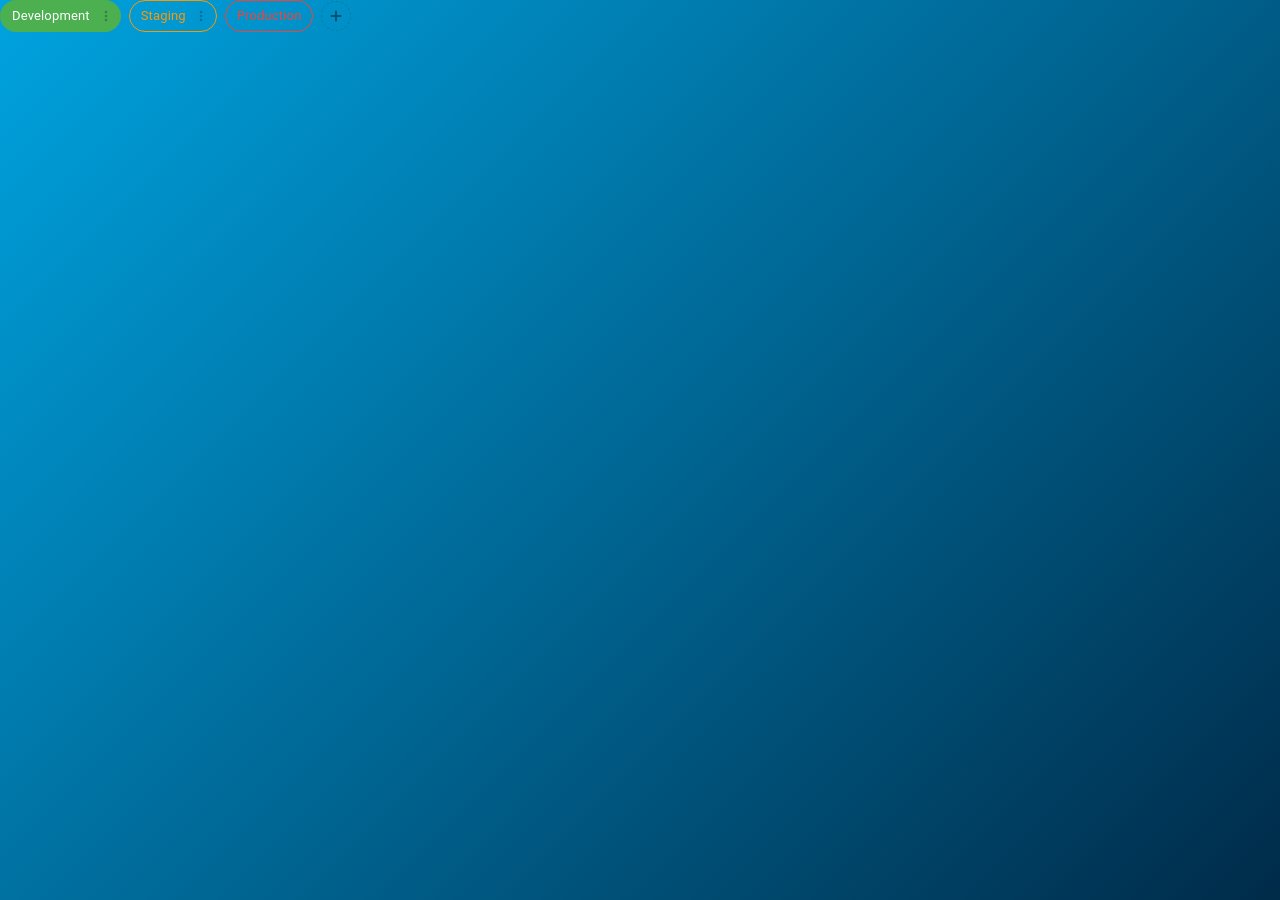
EnvironmentSwitcher › Add Environment › opens add dialog when add button is clicked
What coordinates should you click on to do the following:
click the button named "add environment"
I would click on:
 (336, 16)
Its box is [322,1,352,31].
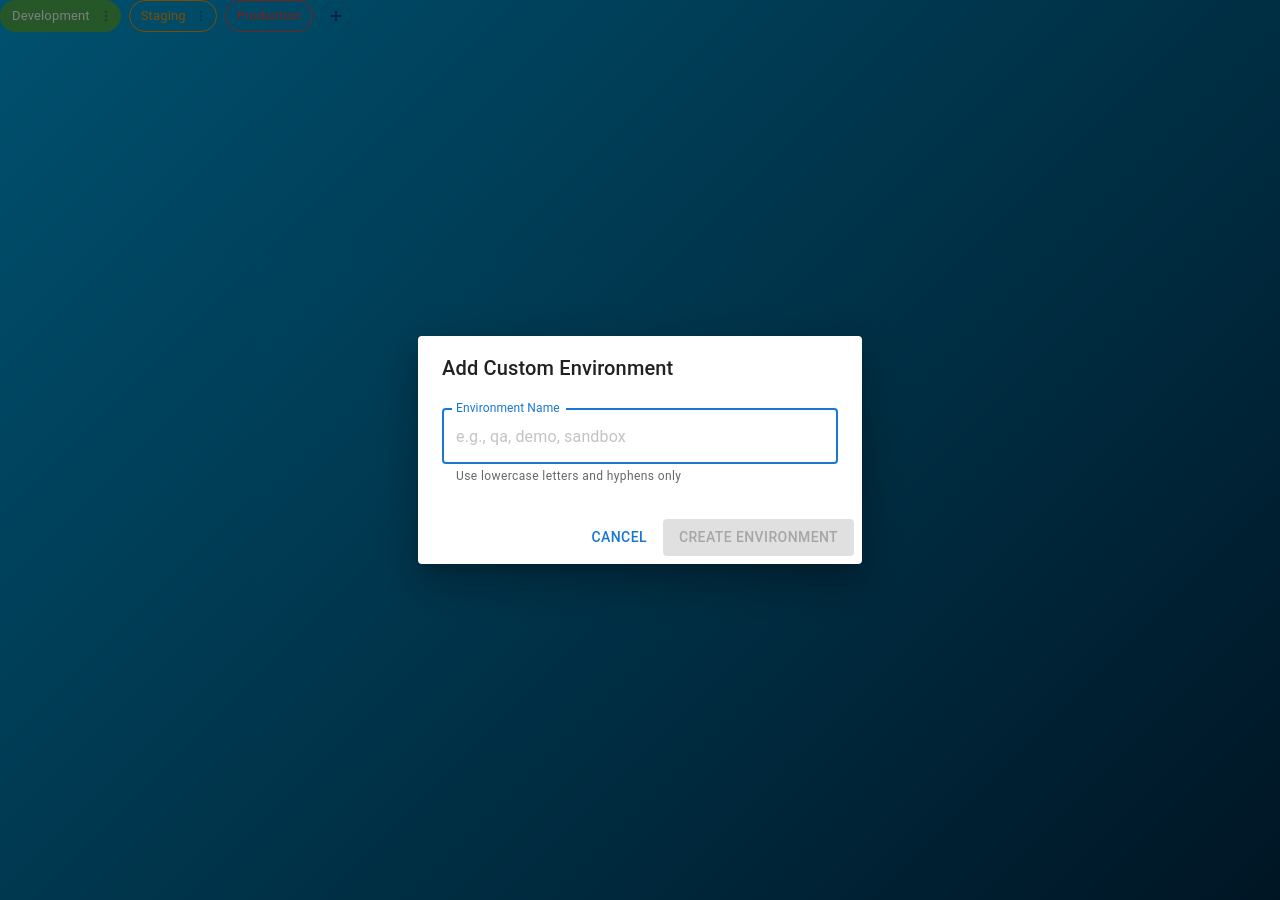
Now the heading "Add Custom Environment" is shown, box [442,356,673,380]
